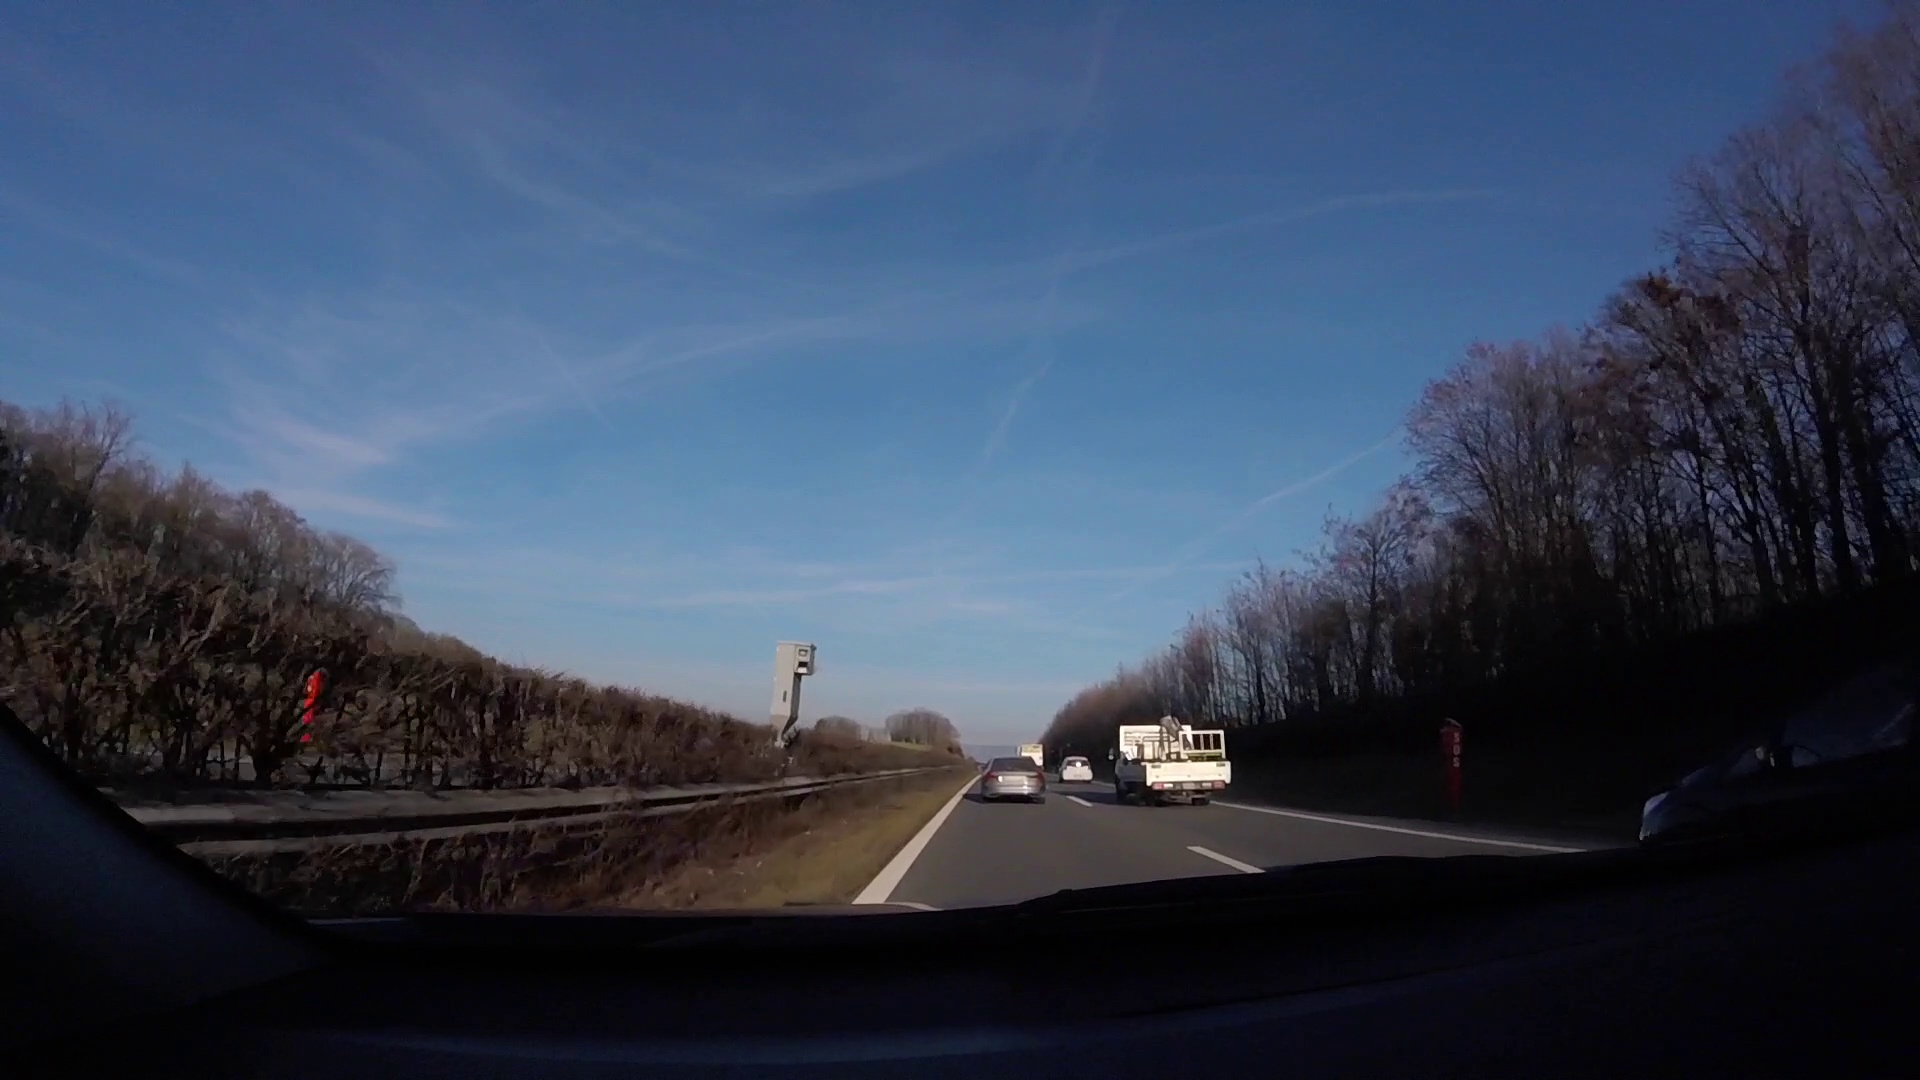radar: (767, 638, 822, 746)
